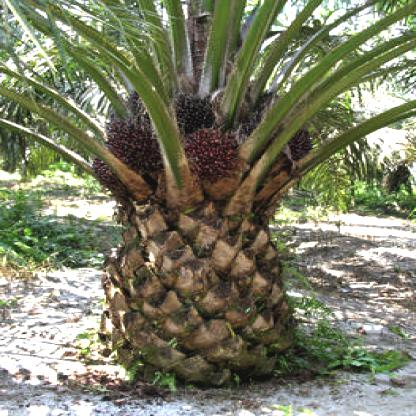1: (179, 127, 248, 186), (103, 117, 163, 171), (87, 155, 125, 193)
palm-oil: (169, 92, 226, 129), (278, 128, 315, 163), (126, 90, 152, 116)
